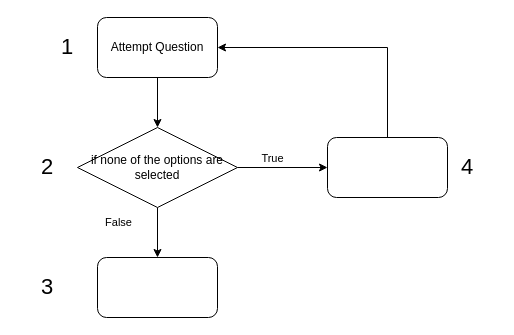
The diagram is 514 pixels wide and 335 high, and some of its shapes have lost their labels. The centre of each missing label's shape, as x and y in pixels:
Display: "Please select an answer": pixel 387 167
Tabulate Score: pixel 157 287
